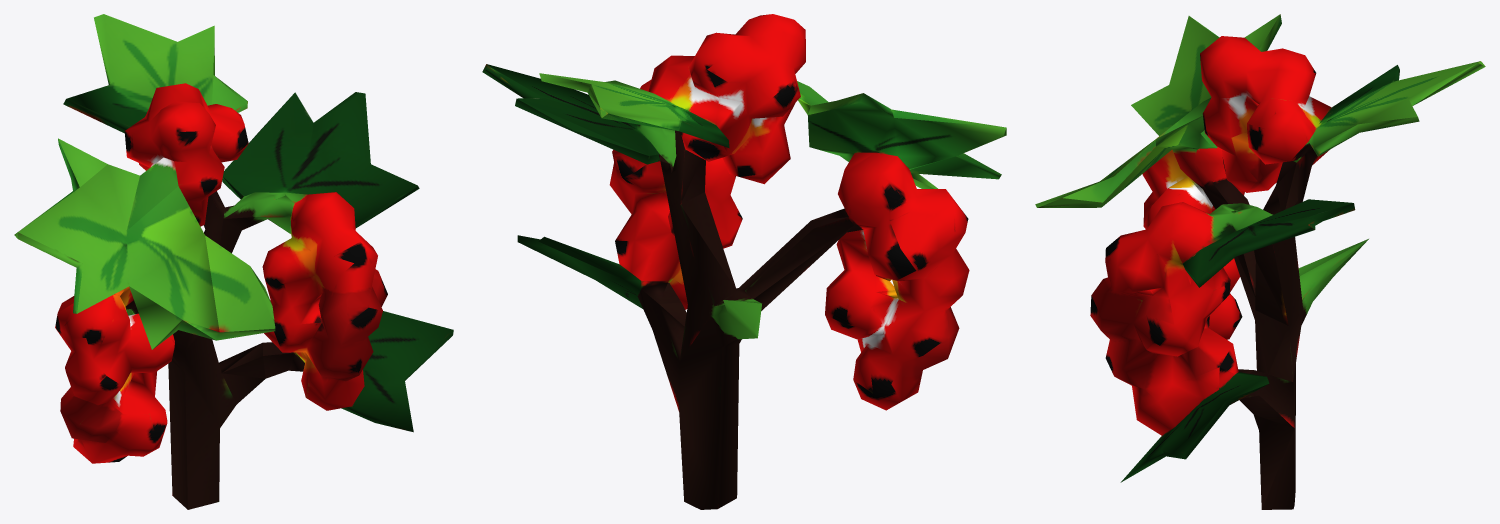
Rendered from berry-bush.glb.
3 renders of one model, left to right at view 1: azimuth 30°, elevation 25°; view 2: azimuth 150°, elevation 25°; view 3: azimuth 270°, elevation 25°, orthographic. The views are drawn at different scales.
Parts seen in each view (by area): view 1: geometry_0; view 2: geometry_0; view 3: geometry_0.
Boxes of the visible parts, x1,y1,x2,y2 form: geometry_0: (14, 14, 453, 509); geometry_0: (482, 14, 1006, 509); geometry_0: (1035, 14, 1485, 509).
Bounding box in the file's own units: 1 × 0.9339 × 0.8497.
Materials: 1 (1 with a texture image).
